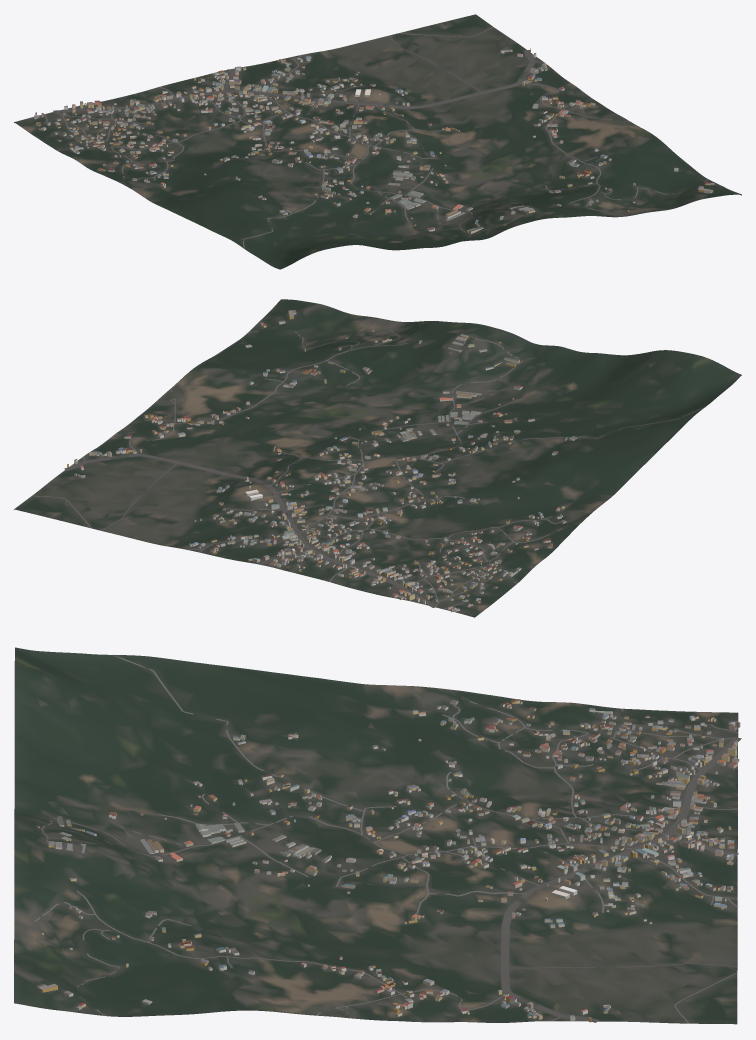
The picture shows the model from 3 angles, top to bottom: view 1: azimuth 30°, elevation 25°; view 2: azimuth 150°, elevation 25°; view 3: azimuth 270°, elevation 25°; orthographic projection. The views are drawn at different scales.
Visible parts, largest first — view 1: ground, buildings, roads; view 2: ground, buildings, roads; view 3: ground, buildings, roads.
Boxes of the visible parts, x1,y1,x2,y2 form: ground: (14, 14, 741, 269); buildings: (34, 48, 714, 233); roads: (44, 27, 707, 248); ground: (14, 299, 741, 617); buildings: (67, 310, 577, 612); roads: (32, 330, 703, 609); ground: (14, 647, 738, 1024); buildings: (36, 699, 740, 1022); roads: (34, 654, 741, 1023).
Bounding box in the file's own units: 1410 × 182 × 1411.
